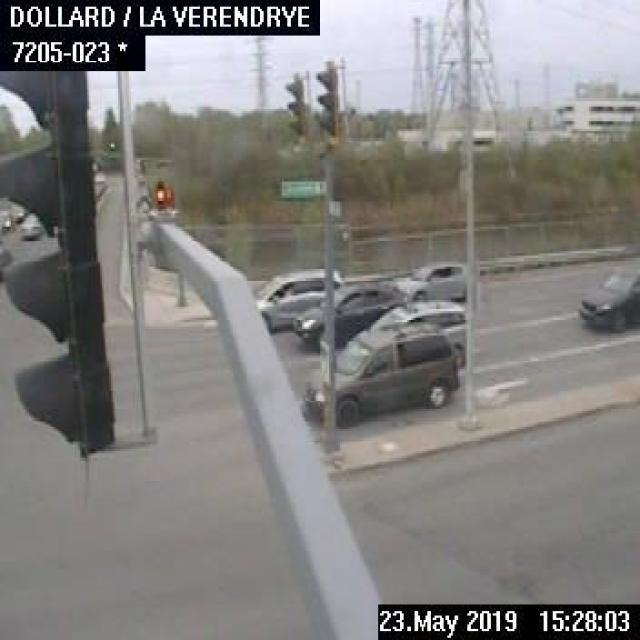vehicle: (299, 323, 461, 431), (294, 282, 405, 342), (256, 264, 344, 332), (575, 260, 638, 331), (368, 297, 468, 333), (391, 257, 476, 295), (19, 211, 42, 238), (0, 208, 13, 232)
